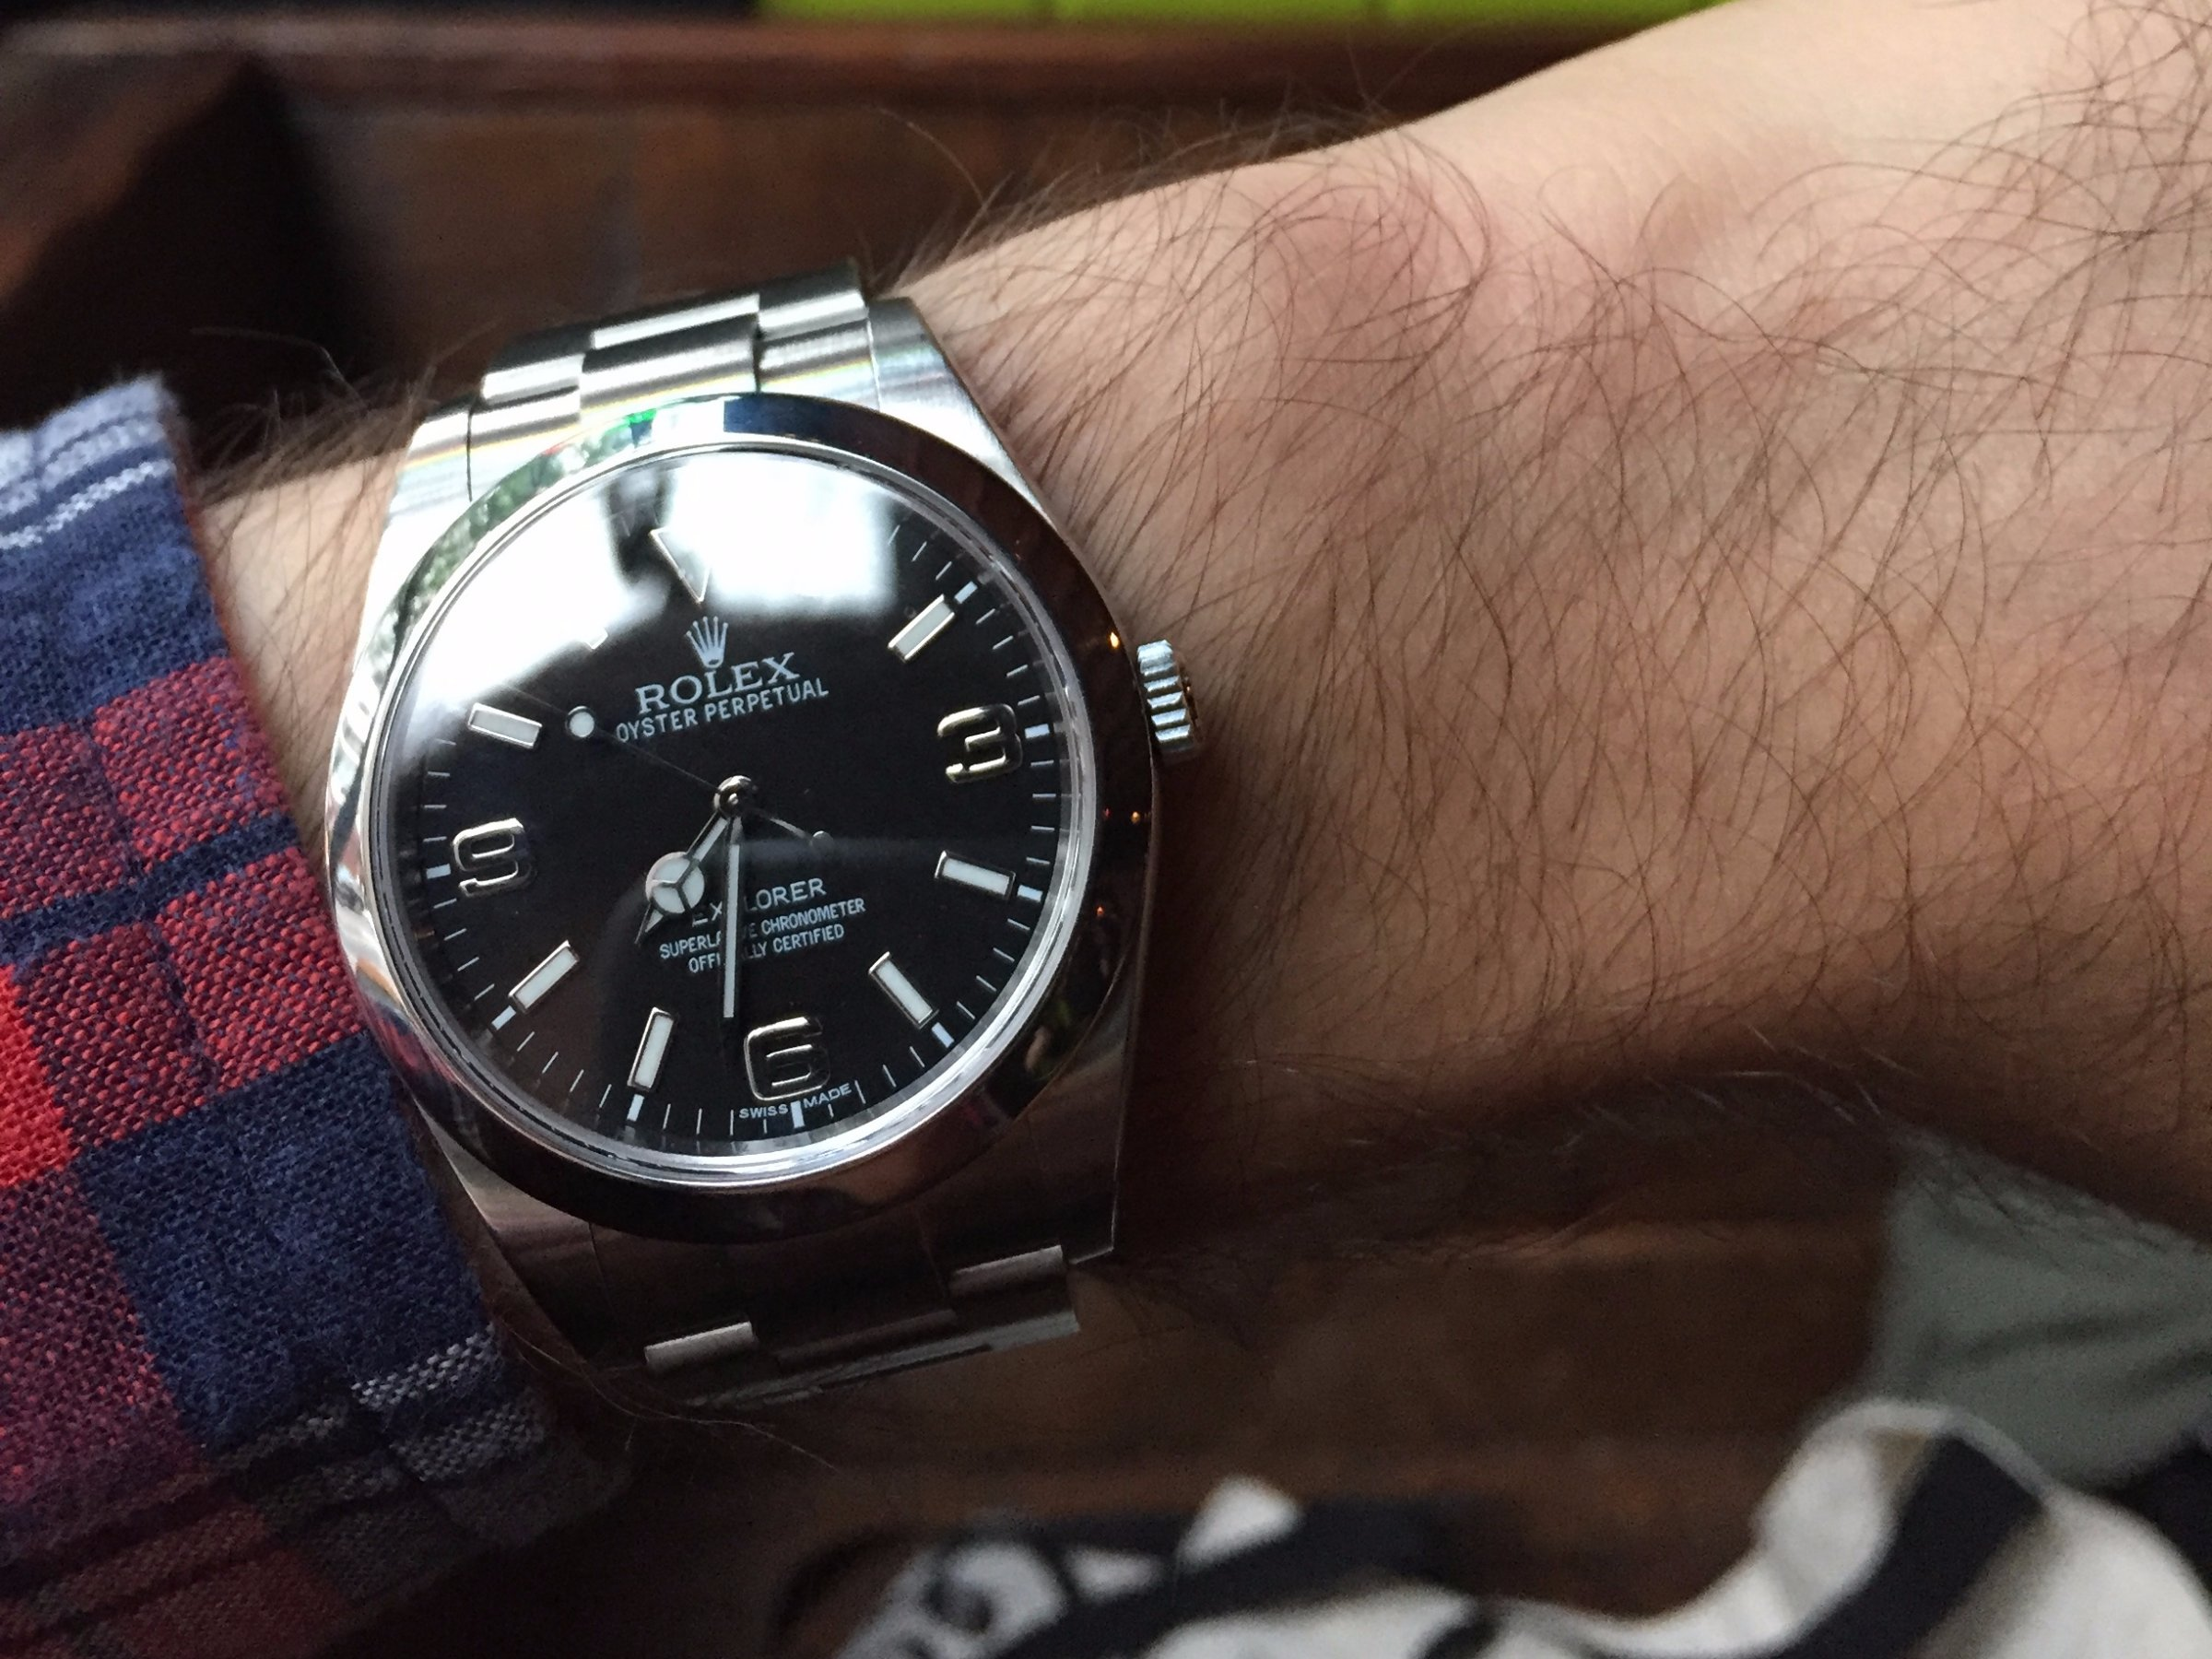clock: (366, 441, 1082, 1169)
